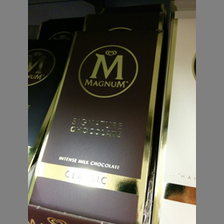chocolate: (38, 34, 160, 221)
